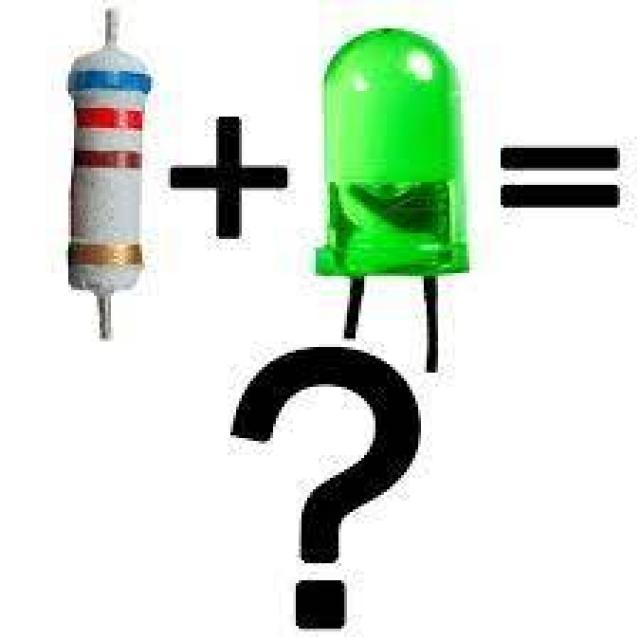Led: (316, 29, 469, 372)
Resistor: (69, 9, 151, 338)
